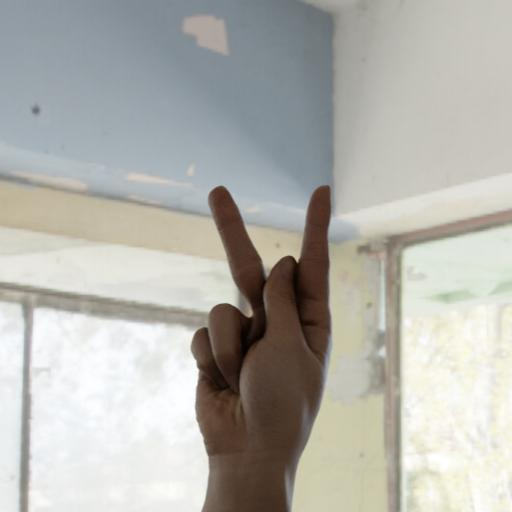K: (174, 162, 360, 481)
